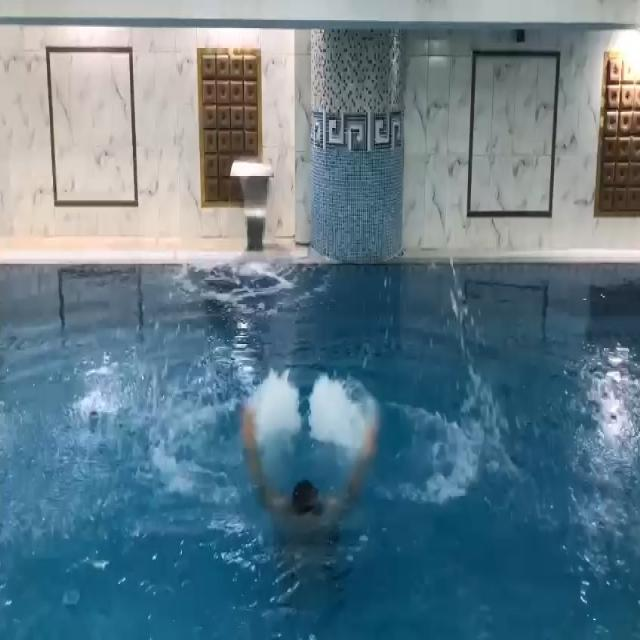Drowning: (242, 392, 378, 536)
